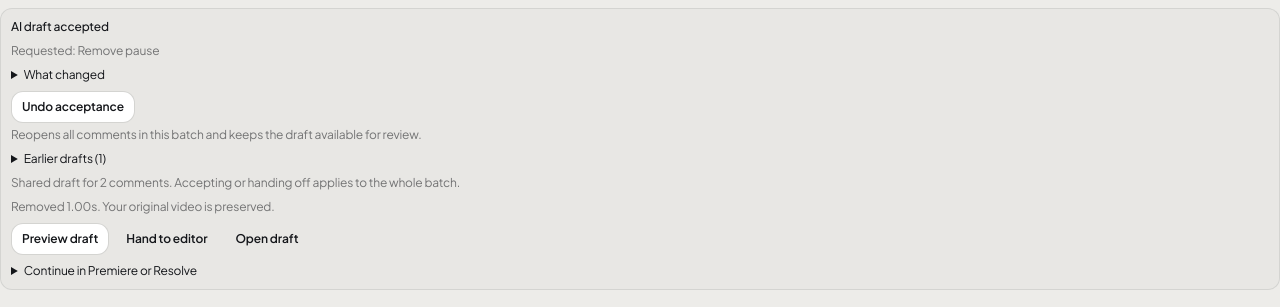
draft revision controls › undoes acceptance through the API and refreshes comments while AI execution is disabled
This screenshot has width=1280, height=307.
Click the button "Undo acceptance": [73, 107] box [11,91,135,123]
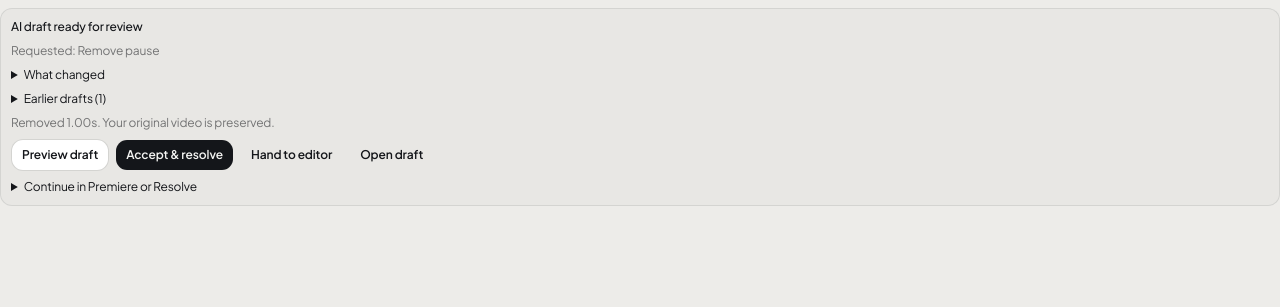
Now the message reads "AI draft ready for review", box [11,19,142,34]
